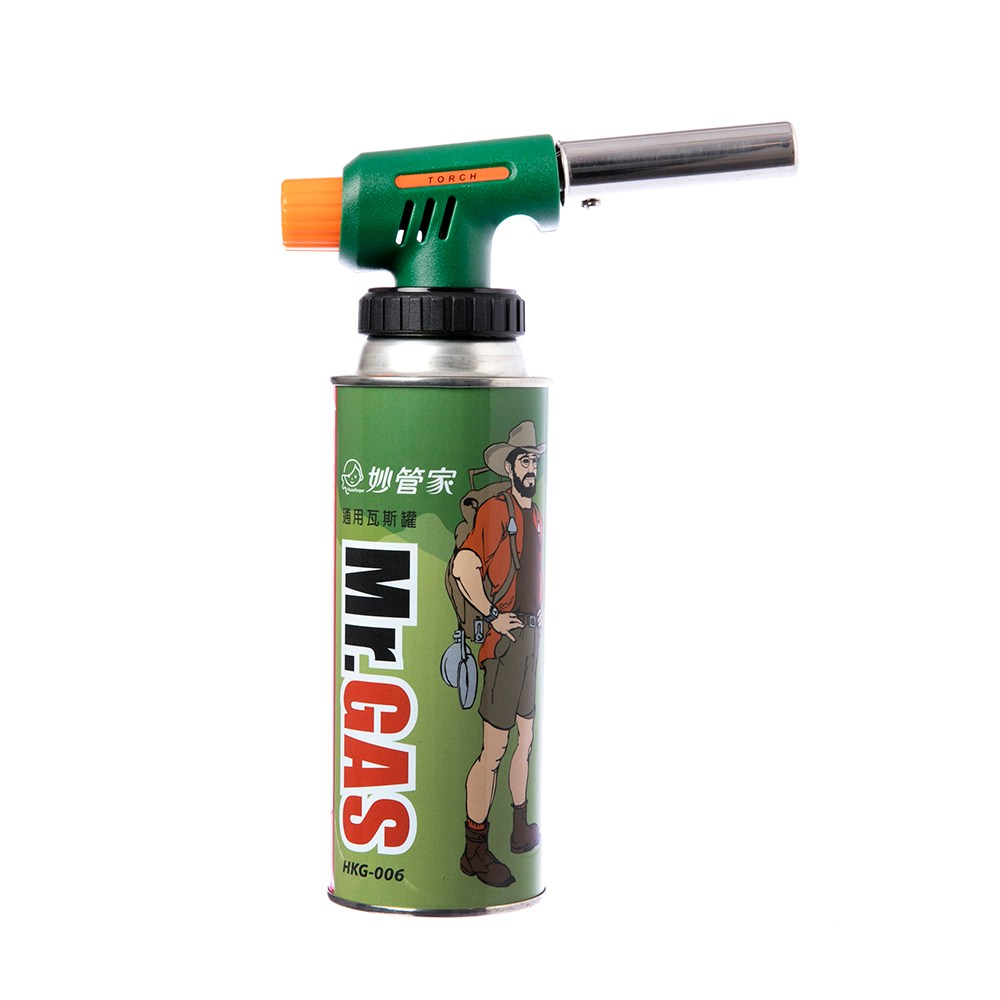gastorch: (282, 120, 812, 913)
